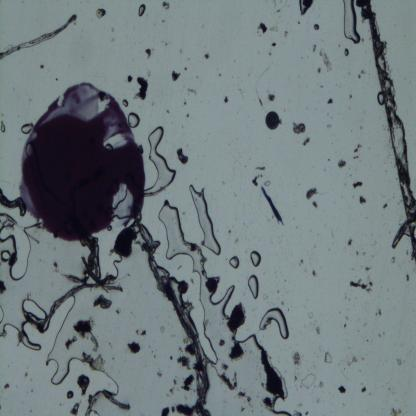Air bubble: (160, 202, 235, 317), (48, 298, 80, 384), (188, 184, 221, 256), (144, 126, 176, 196), (6, 224, 34, 289), (0, 319, 42, 351), (258, 308, 290, 339), (342, 0, 362, 46), (22, 298, 46, 322), (0, 213, 17, 232), (127, 110, 141, 130), (249, 249, 262, 269), (19, 122, 36, 136), (300, 0, 314, 16), (228, 256, 240, 270), (0, 249, 12, 262), (0, 304, 7, 324), (138, 3, 146, 17), (0, 119, 7, 132), (66, 391, 74, 400), (122, 98, 129, 108)
Background material: (255, 337, 285, 400), (72, 320, 99, 353), (213, 363, 240, 393), (80, 350, 108, 372), (226, 304, 246, 333), (92, 290, 113, 311), (306, 311, 322, 336), (319, 46, 333, 74), (134, 74, 148, 102), (348, 278, 374, 292), (75, 375, 91, 397), (247, 274, 260, 300), (229, 342, 245, 363), (298, 372, 316, 390), (62, 332, 78, 352), (167, 374, 180, 398), (180, 373, 196, 391), (176, 354, 192, 371), (126, 340, 141, 356), (176, 148, 189, 166), (206, 278, 218, 296), (351, 140, 362, 159), (236, 391, 252, 404), (68, 400, 81, 416), (305, 186, 319, 200), (185, 82, 198, 96), (291, 122, 306, 134), (261, 396, 273, 411), (346, 354, 359, 367), (379, 198, 391, 212), (256, 23, 268, 36), (155, 368, 166, 382), (323, 350, 333, 364), (142, 46, 152, 60), (95, 7, 107, 18), (170, 70, 181, 81), (389, 408, 404, 416), (352, 180, 364, 190), (338, 158, 348, 170), (374, 307, 383, 320), (135, 327, 147, 336), (294, 352, 301, 367), (252, 175, 260, 188), (161, 1, 171, 11), (270, 22, 280, 32), (302, 137, 311, 148), (309, 264, 316, 278), (313, 19, 320, 33), (202, 49, 210, 61), (358, 194, 366, 206), (338, 385, 347, 395), (161, 406, 170, 416), (267, 93, 276, 103), (347, 233, 353, 248), (358, 71, 366, 82), (270, 37, 277, 49), (255, 164, 265, 172), (127, 72, 133, 84), (2, 381, 10, 390), (312, 199, 320, 208), (326, 98, 334, 106), (405, 272, 411, 282), (344, 47, 350, 57), (223, 94, 229, 103), (360, 386, 367, 393), (185, 111, 191, 118)
Cellulose filter fibre: (136, 223, 207, 411), (22, 281, 119, 332), (0, 14, 77, 63), (0, 188, 26, 216), (102, 393, 132, 410)
Cotton: (260, 186, 285, 224)
Edge of slide: (356, 0, 416, 266)
Pen: (19, 81, 147, 237), (265, 110, 280, 130)
